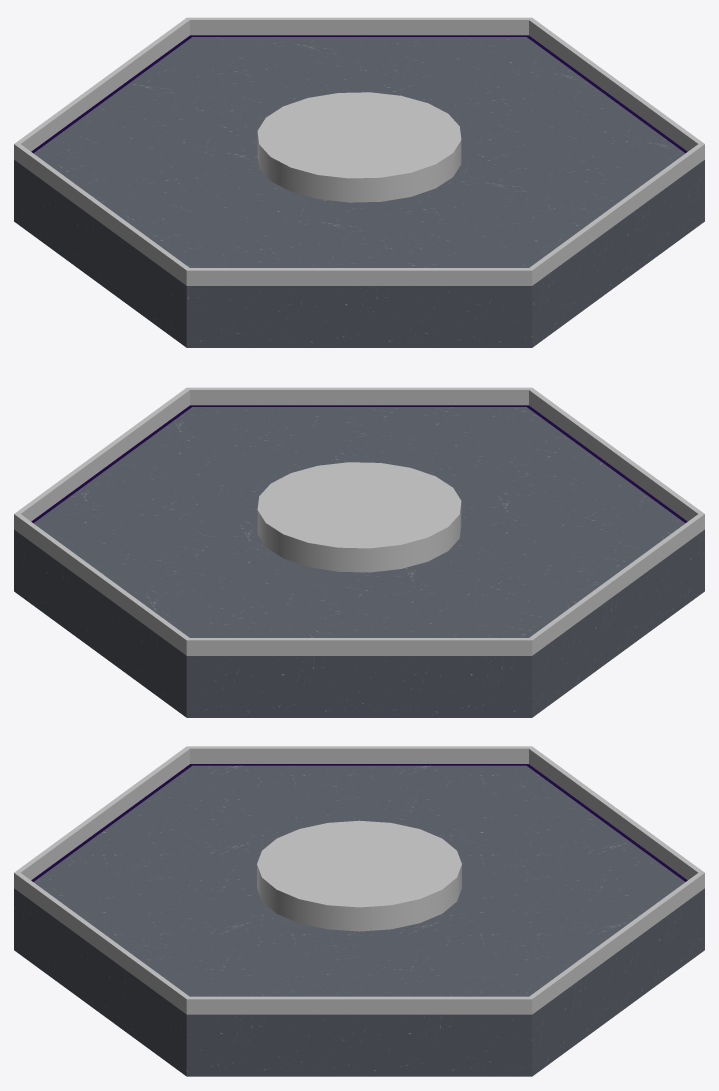
File: Duel_Stage 22.fbx
3 views of the same model, one above another, from view 1: azimuth 30°, elevation 25°; view 2: azimuth 150°, elevation 25°; view 3: azimuth 270°, elevation 25° (orthographic).
Visible parts, largest first — view 1: hexa_platform, hexa_platform.001, Cylinder_Visual.001, hexa_platform.002; view 2: hexa_platform, hexa_platform.001, Cylinder_Visual.001, hexa_platform.002; view 3: hexa_platform, hexa_platform.001, Cylinder_Visual.001, hexa_platform.002.
Boxes of the visible parts, left/top/right/bottom form: hexa_platform: left=14, top=37, right=704, bottom=347; hexa_platform.001: left=14, top=17, right=704, bottom=285; Cylinder_Visual.001: left=257, top=92, right=461, bottom=202; hexa_platform.002: left=31, top=35, right=687, bottom=153; hexa_platform: left=14, top=407, right=704, bottom=717; hexa_platform.001: left=14, top=387, right=704, bottom=655; Cylinder_Visual.001: left=257, top=462, right=461, bottom=572; hexa_platform.002: left=31, top=405, right=687, bottom=523; hexa_platform: left=14, top=765, right=704, bottom=1076; hexa_platform.001: left=14, top=746, right=704, bottom=1014; Cylinder_Visual.001: left=257, top=820, right=461, bottom=931; hexa_platform.002: left=31, top=764, right=687, bottom=881.
Size of the model in its own units: 5647 by 834 by 6065.
